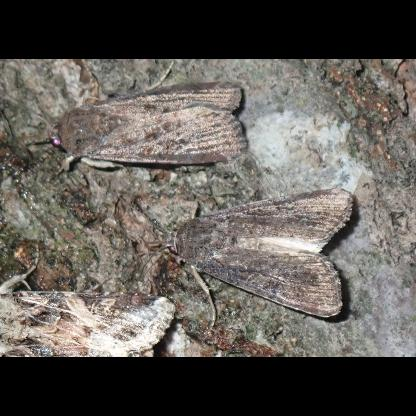Fall Armyworm Moth: (110, 186, 356, 344), (31, 60, 249, 188), (0, 242, 178, 358)
